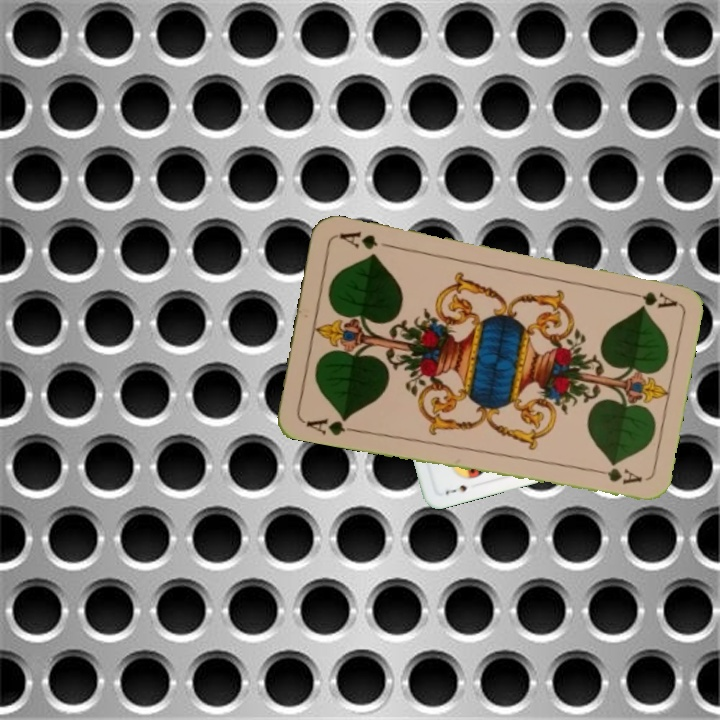GA: (302, 412, 360, 439), (620, 287, 679, 310)
S7: (441, 481, 471, 497)
